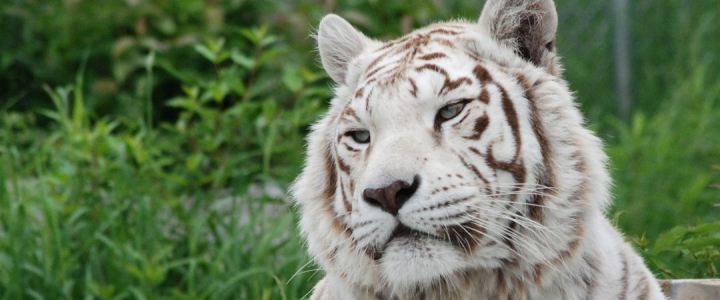Tiger: (289, 2, 671, 300)
